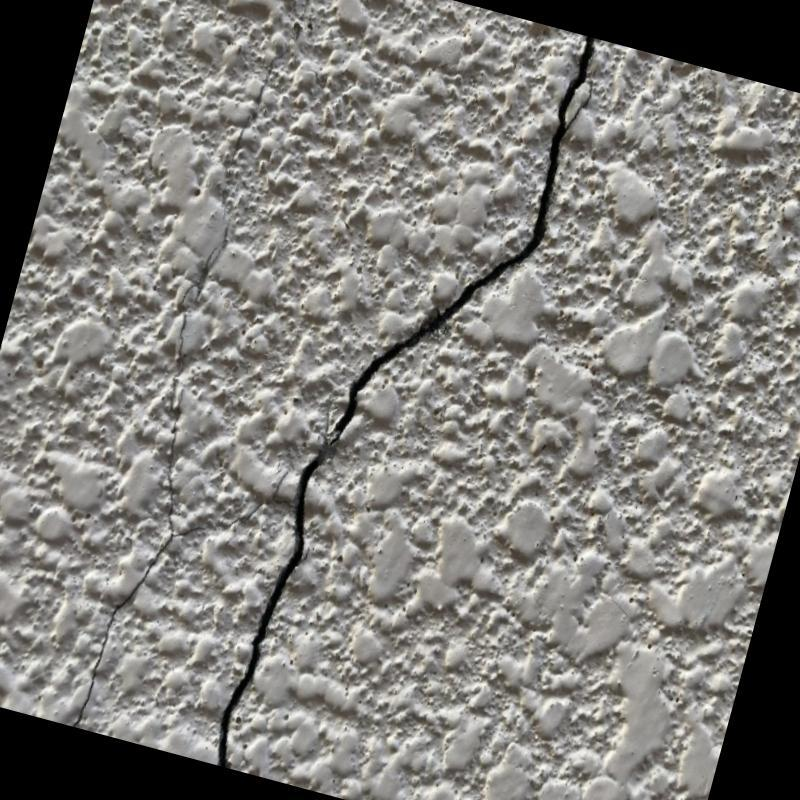crack: (210, 35, 597, 766)
